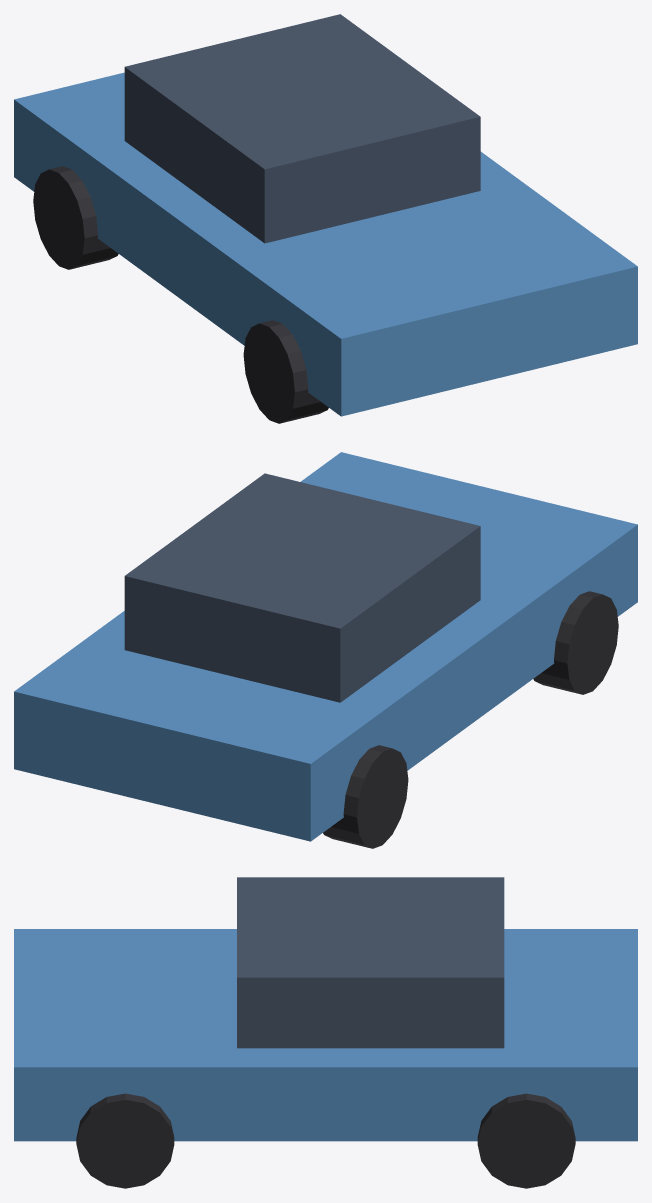
The model's file is car.glb.
3 views of the same model, one above another, from view 1: azimuth 30°, elevation 25°; view 2: azimuth 150°, elevation 25°; view 3: azimuth 270°, elevation 25° (orthographic). The views are drawn at different scales.
Visible parts, largest first — view 1: p0, p1, p3, p2; view 2: p0, p1, p2, p3; view 3: p0, p1, p4, p5.
Boxes of the visible parts, <box> form: p0: <box>14,72,637,416</box>; p1: <box>124,14,480,243</box>; p3: <box>243,320,328,423</box>; p2: <box>33,166,118,269</box>; p0: <box>14,452,637,841</box>; p1: <box>124,473,480,702</box>; p2: <box>323,745,408,848</box>; p3: <box>533,591,618,694</box>; p0: <box>14,929,637,1141</box>; p1: <box>237,877,504,1048</box>; p4: <box>477,1093,575,1188</box>; p5: <box>76,1093,174,1188</box>.
Size of the model in its own units: 2.4 by 1.38 by 4.2.
